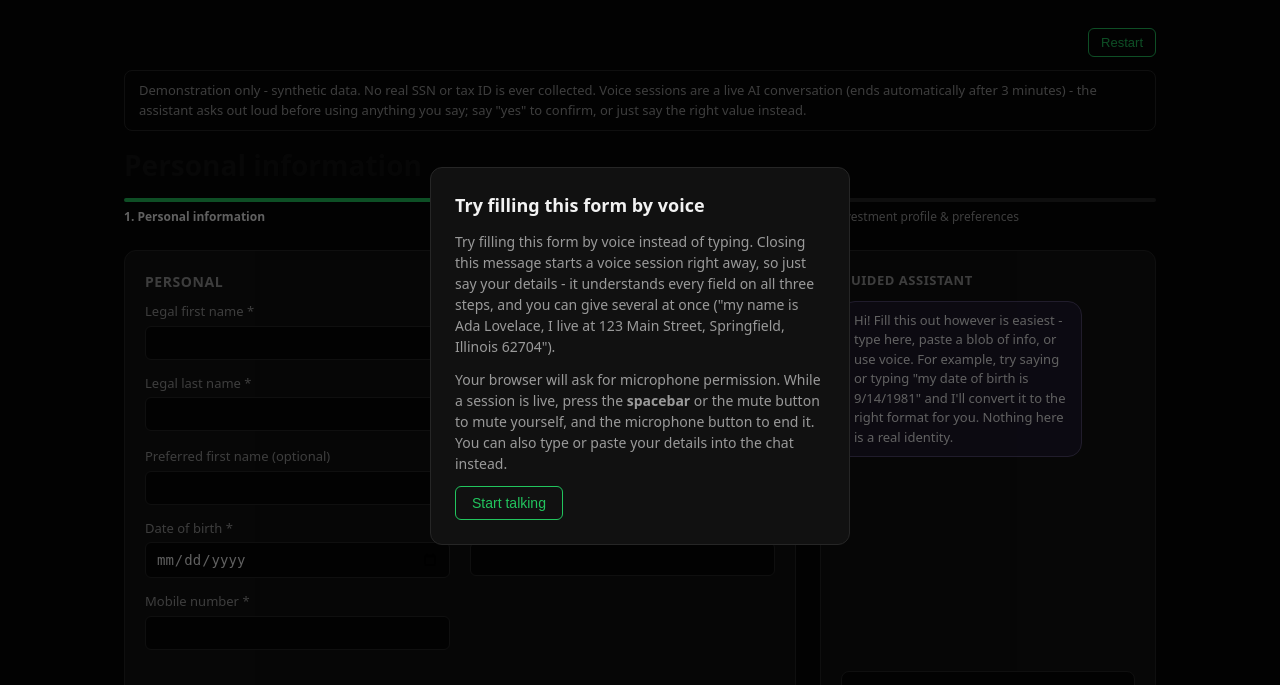
PersonalInformationPage › sending a composer message never changes a field until "Use this" is clicked
Click the button "Start talking" at (509, 503), box [455,486,563,520]
(page scrolled)
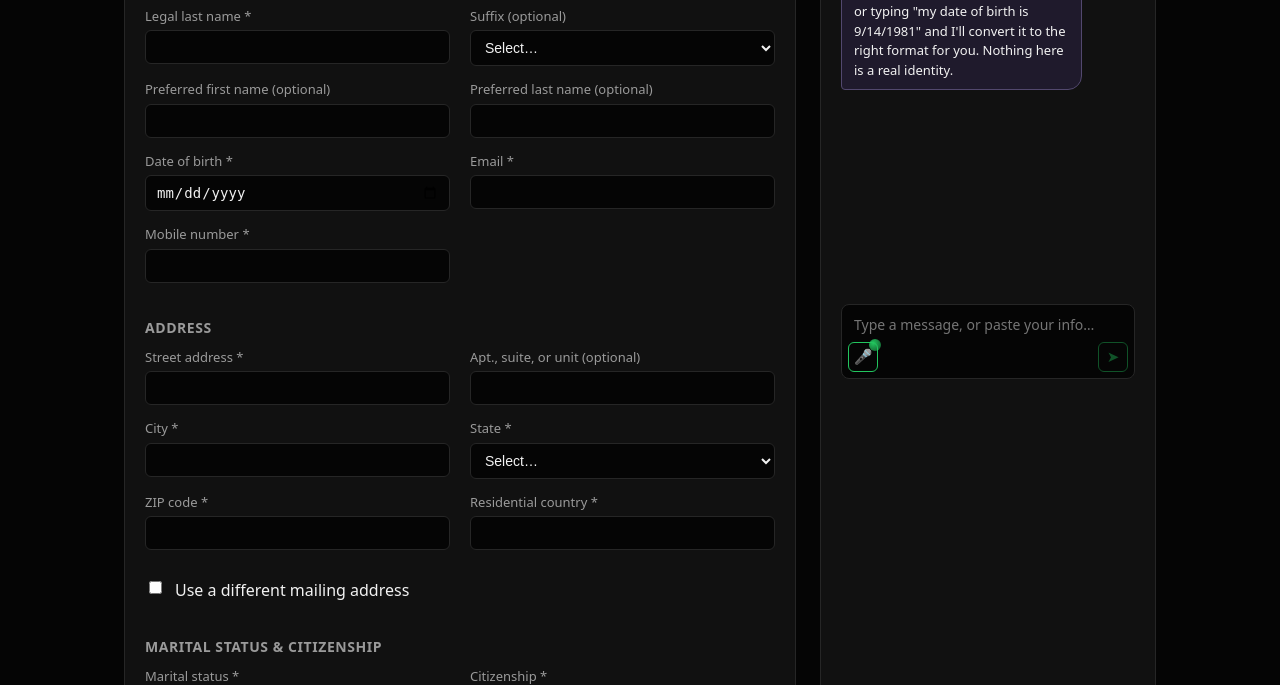
Click the button "🎤" at (863, 356), box [848,342,878,372]
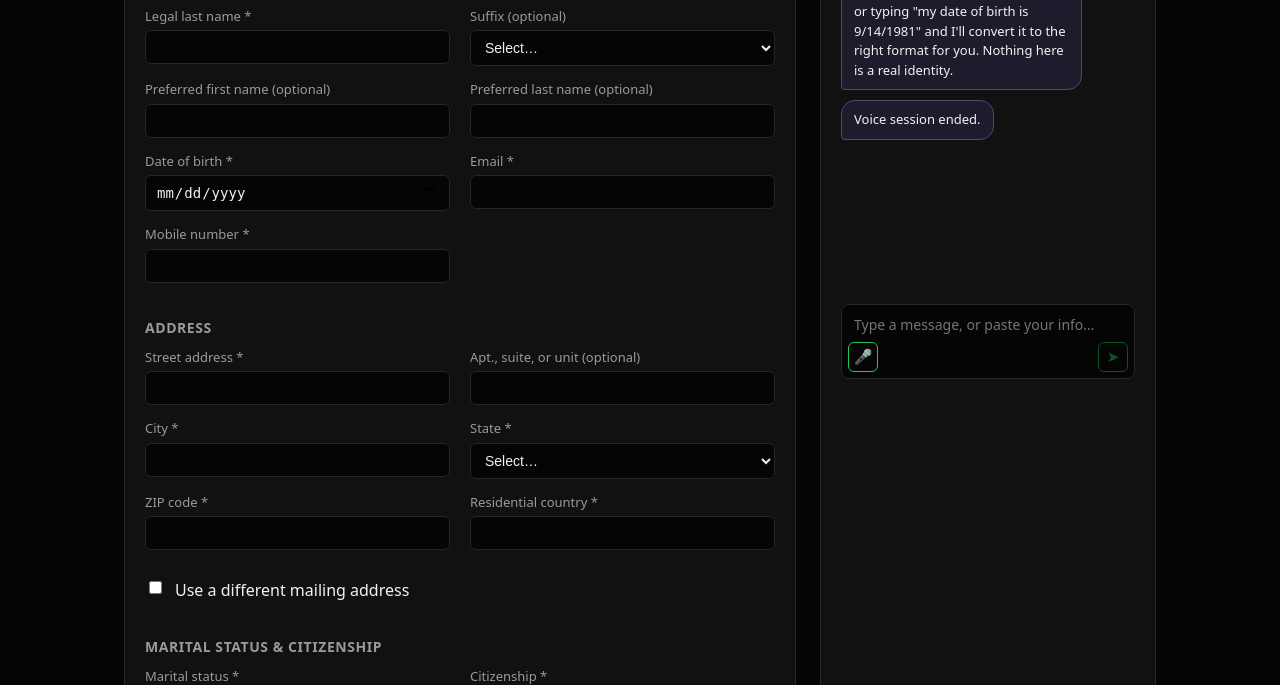
Type "My name is Ada." into the text box with placeholder "Type a message, or paste your info…" at (988, 321), box [842,304,1134,338]
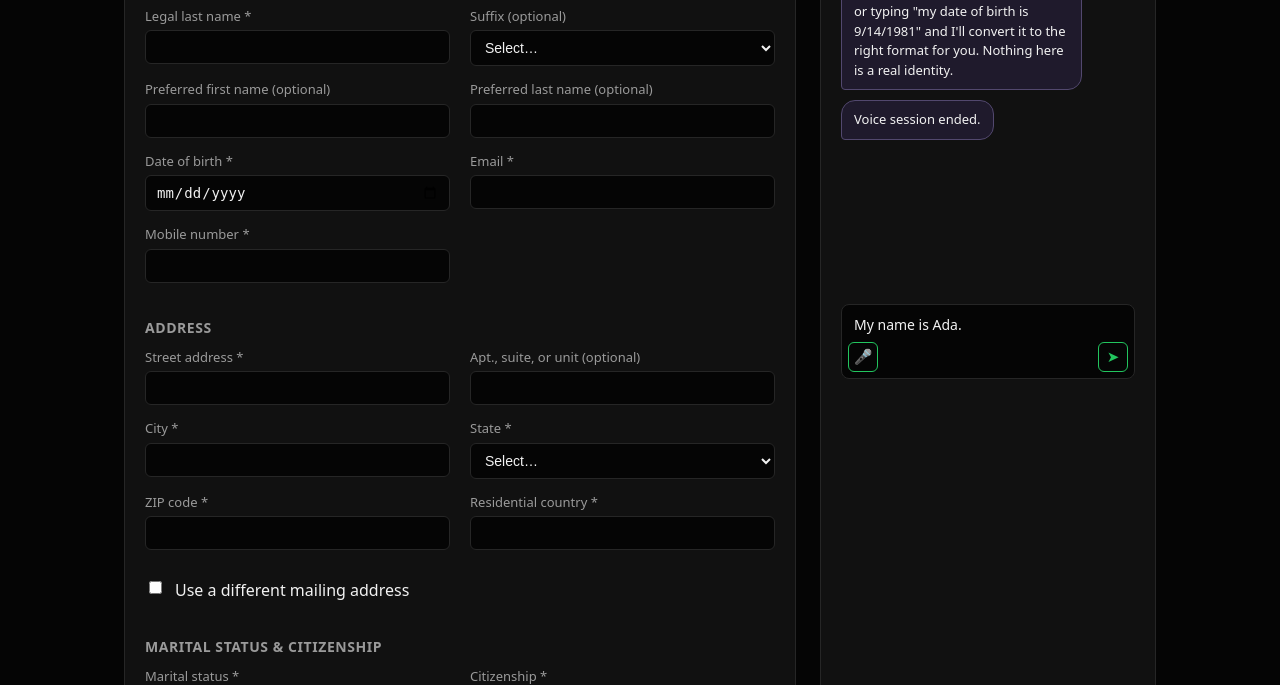
Click the button named "send" at (1113, 356), box [1098,342,1128,372]
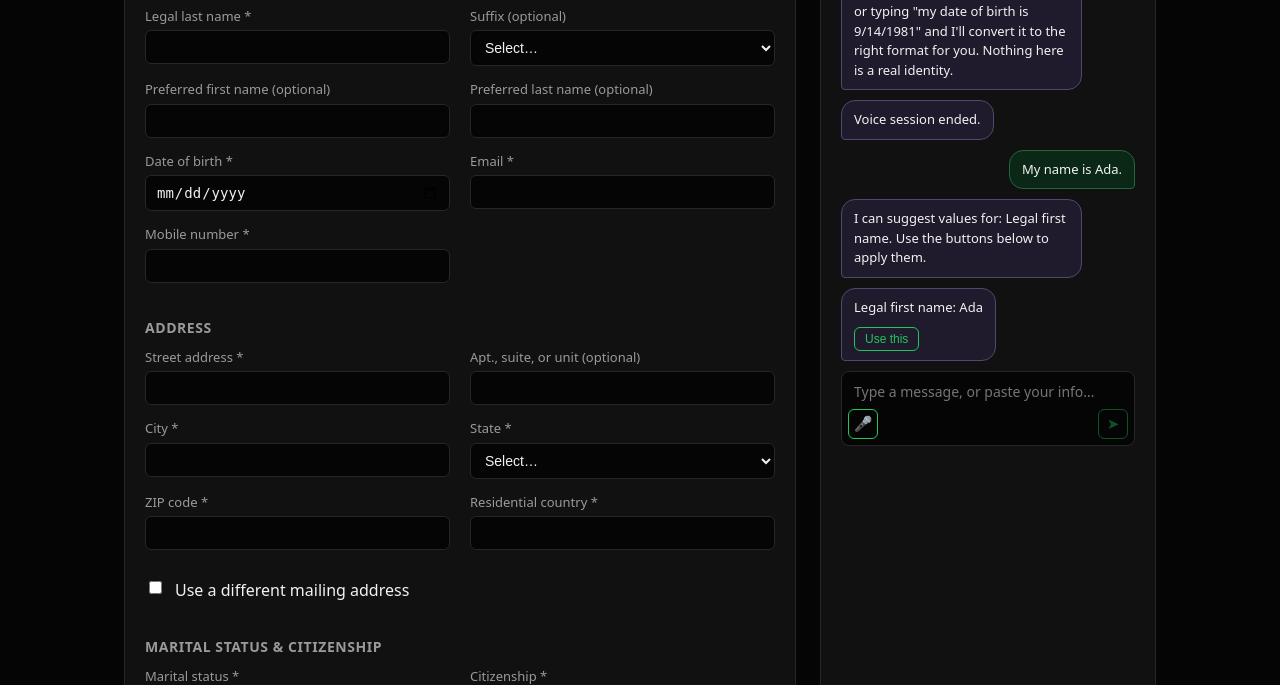
Click the button "Use this" at (887, 339), box [854,327,919,351]
(page scrolled)
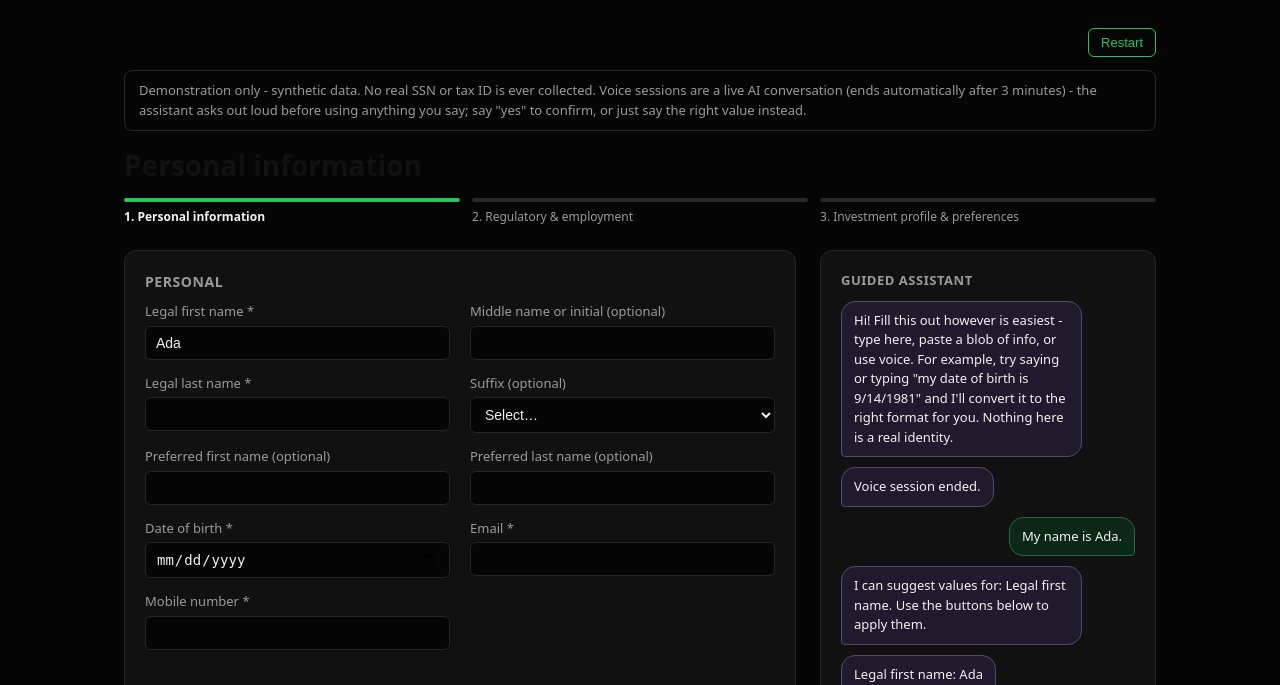
Now the field labelled "Legal first name *" holds "Ada", box [145,326,450,360]
